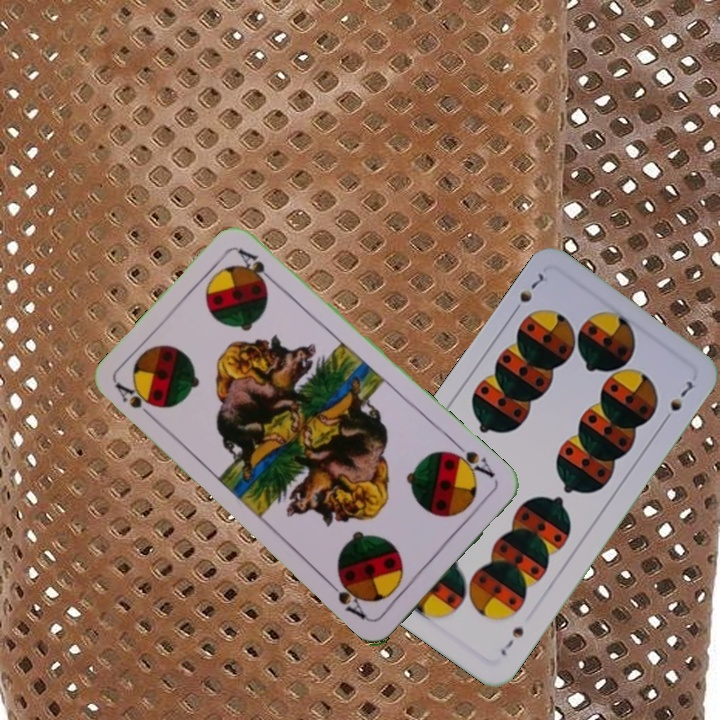S7: (507, 269, 547, 318), (496, 622, 527, 659)
SA: (444, 438, 498, 481), (112, 379, 160, 425)
